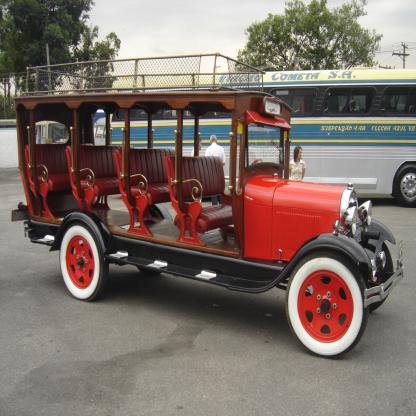Bus: (112, 68, 416, 207)
